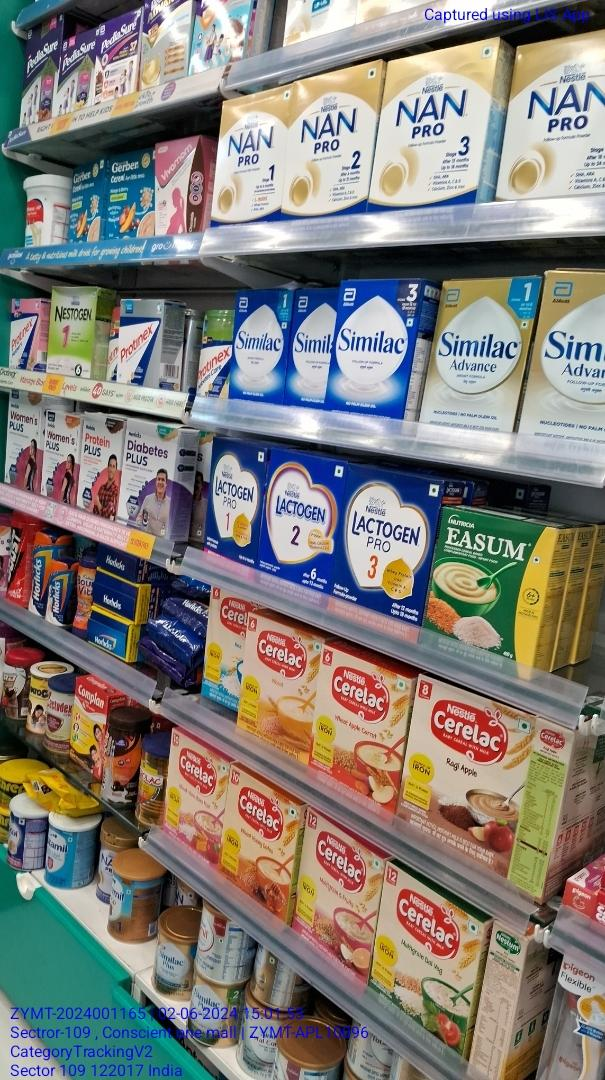PEDIASURE_CHOCOLATE_500_G_PACK: (20, 11, 62, 130)
